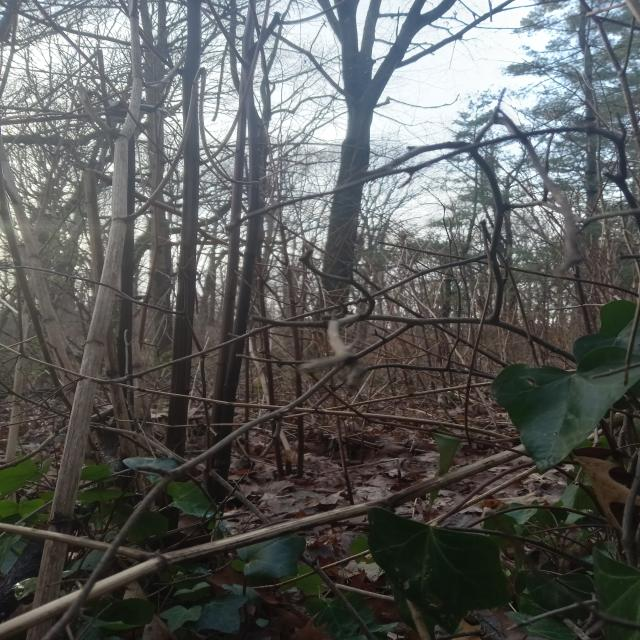knotweed-stems: (20, 2, 153, 636), (187, 0, 277, 508)
